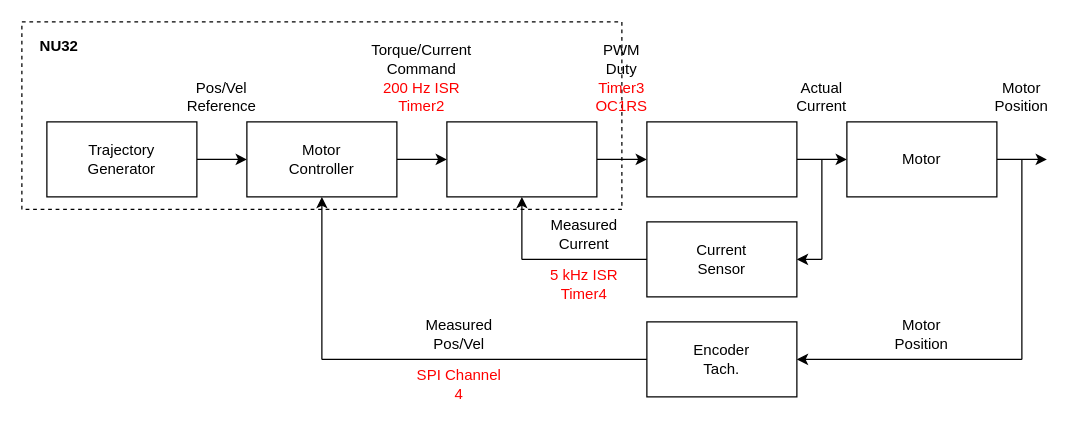
Some shapes in this 1079 by 424 pixel diagram are drawn without their labels. The shapes that lost their labels are listed below. From the top down, each one's centre as x and y in pixels, then its label:
At (x=521, y=159): "Current Controller".
At (x=721, y=159): "H-Bridge".
